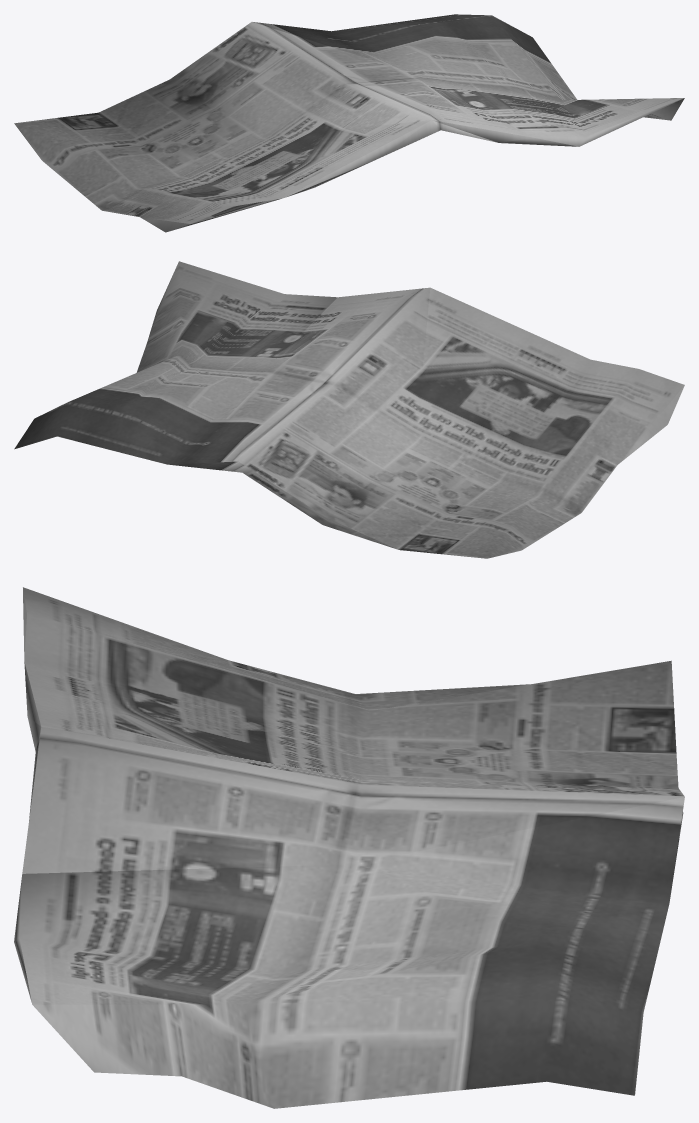
The model's file is newspaperer.fbx.
3 views of the same model, one above another, from view 1: azimuth 30°, elevation 25°; view 2: azimuth 150°, elevation 25°; view 3: azimuth 270°, elevation 25° (orthographic). The views are drawn at different scales.
Visible parts, largest first — view 1: Newspaper; view 2: Newspaper; view 3: Newspaper.
Part boxes in pixels (x1=…): Newspaper: x1=14, y1=14, x2=684, y2=232; Newspaper: x1=14, y1=261, x2=684, y2=558; Newspaper: x1=14, y1=587, x2=684, y2=1108.
Bounding box in the file's own units: 65.92 × 13.38 × 43.48.
